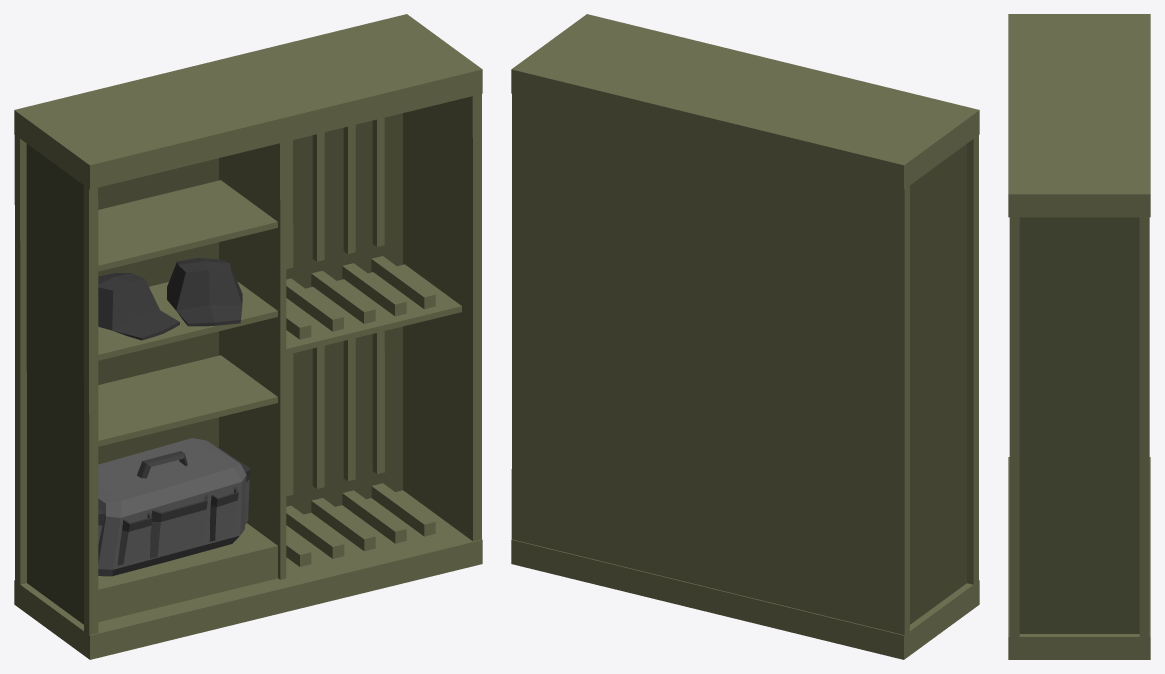
File: GunLocker1.glb
The picture shows the model from 3 angles, left to right: view 1: azimuth 30°, elevation 25°; view 2: azimuth 150°, elevation 25°; view 3: azimuth 270°, elevation 25°; orthographic projection. The views are drawn at different scales.
Parts seen in each view (by area): view 1: GunLocker; view 2: GunLocker; view 3: GunLocker.
Boxes of the visible parts, <box> form: GunLocker: <box>14,14,482,659</box>; GunLocker: <box>511,14,979,659</box>; GunLocker: <box>1008,14,1150,659</box>.
Size of the model in its own units: 1.74 by 2.09 by 0.5804.
1 material, 1 textured.
